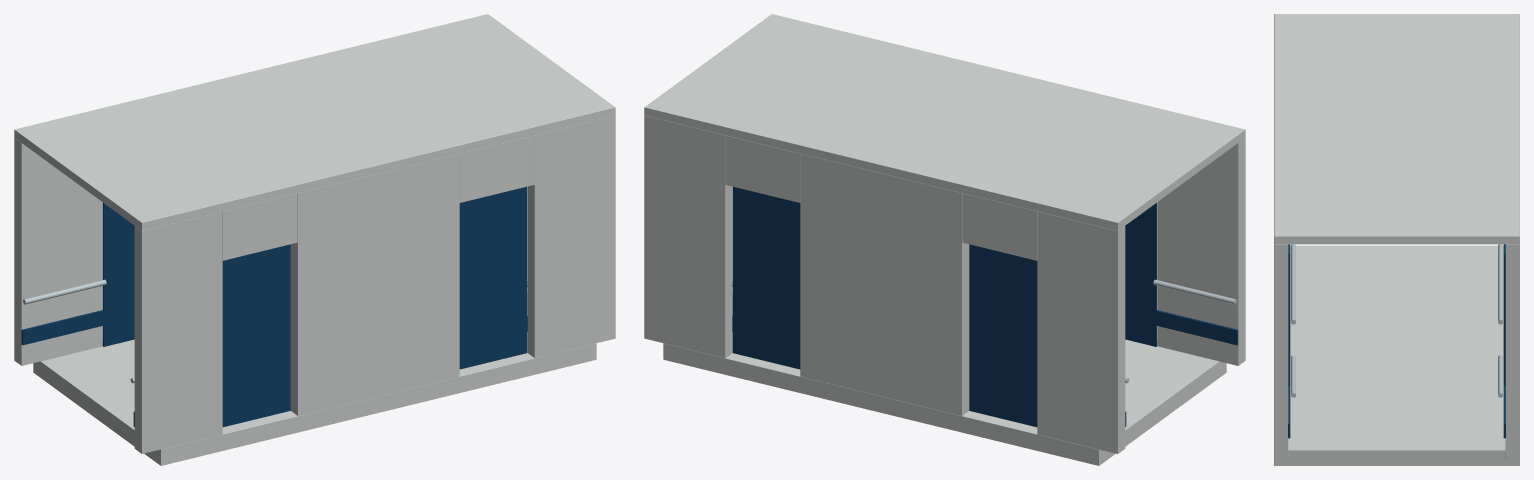
File: edited.glb
3 views of the same model, side by side, from view 1: azimuth 30°, elevation 25°; view 2: azimuth 150°, elevation 25°; view 3: azimuth 270°, elevation 25° (orthographic). The views are drawn at different scales.
Parts seen in each view (by area): view 1: SERVICE_Ceiling, WALL.001, WALL, WALL.002, WALL.003, FLOOR, ROOM_Door.001, ROOM_Door, ROOM_Door.002, ROOM_Header, ROOM_Header.001, PROTECTION.003; view 2: SERVICE_Ceiling, WALL.004, WALL.003, WALL.005, WALL, FLOOR, ROOM_Door.003, ROOM_Door.002, ROOM_Door, ROOM_Header.002, ROOM_Header.003, PROTECTION; view 3: SERVICE_Ceiling, FLOOR, WALL.002, WALL.005, ROOM_Door.001, ROOM_Door.003, HANDRAIL.001, HANDRAIL.004.
Part boxes in pixels (left/top/right/bottom): SERVICE_Ceiling: left=14, top=14, right=615, bottom=230; WALL.001: left=290, top=153, right=459, bottom=415; WALL: left=134, top=211, right=222, bottom=453; WALL.002: left=527, top=115, right=615, bottom=357; WALL.003: left=14, top=138, right=102, bottom=365; FLOOR: left=33, top=293, right=596, bottom=465; ROOM_Door.001: left=459, top=186, right=527, bottom=369; ROOM_Door: left=222, top=244, right=290, bottom=427; ROOM_Door.002: left=102, top=202, right=134, bottom=346; ROOM_Header: left=222, top=193, right=297, bottom=260; ROOM_Header.001: left=459, top=135, right=534, bottom=202; PROTECTION.003: left=21, top=310, right=103, bottom=345; SERVICE_Ceiling: left=644, top=14, right=1245, bottom=230; WALL.004: left=800, top=153, right=969, bottom=415; WALL.003: left=1037, top=211, right=1125, bottom=453; WALL.005: left=644, top=115, right=732, bottom=357; WALL: left=1157, top=138, right=1245, bottom=365; FLOOR: left=663, top=293, right=1226, bottom=465; ROOM_Door.003: left=732, top=186, right=800, bottom=369; ROOM_Door.002: left=969, top=244, right=1037, bottom=427; ROOM_Door: left=1125, top=202, right=1157, bottom=346; ROOM_Header.002: left=962, top=193, right=1037, bottom=260; ROOM_Header.003: left=725, top=135, right=800, bottom=202; PROTECTION: left=1156, top=310, right=1238, bottom=345; SERVICE_Ceiling: left=1274, top=14, right=1519, bottom=244; FLOOR: left=1274, top=245, right=1519, bottom=465; WALL.002: left=1274, top=244, right=1288, bottom=458; WALL.005: left=1505, top=244, right=1519, bottom=458; ROOM_Door.001: left=1288, top=244, right=1290, bottom=385; ROOM_Door.003: left=1503, top=244, right=1505, bottom=385; HANDRAIL.001: left=1291, top=244, right=1295, bottom=324; HANDRAIL.004: left=1498, top=244, right=1502, bottom=324.
Size of the model in its own units: 6 by 3 by 2.8.
